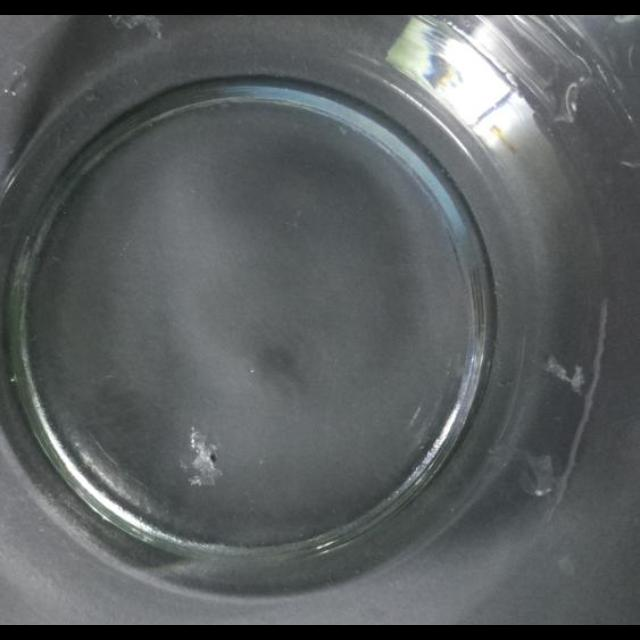Fibre: (182, 425, 224, 487), (544, 354, 584, 394), (522, 453, 556, 495)
